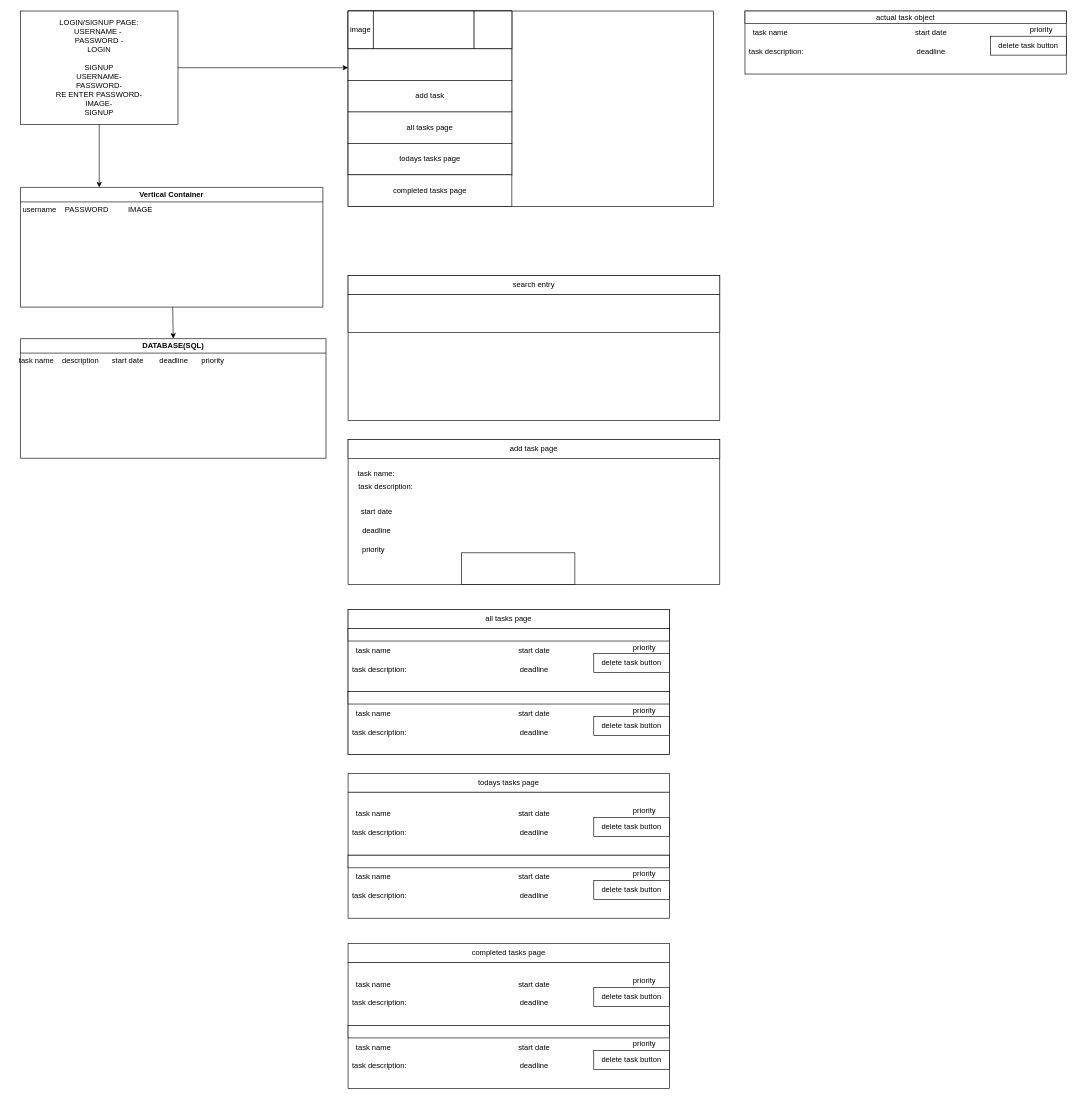
Image size: 1077x1099. Some labels were removed from this diagram. The shapes that lost their labels are listed below. From the top down, each one's centre as x and y in pixels, then its label:
the point at 423,29: name
the point at 492,29: hide/show panel
the point at 429,64: search page
the point at 533,313: details of searched task
the point at 518,568: add task button
